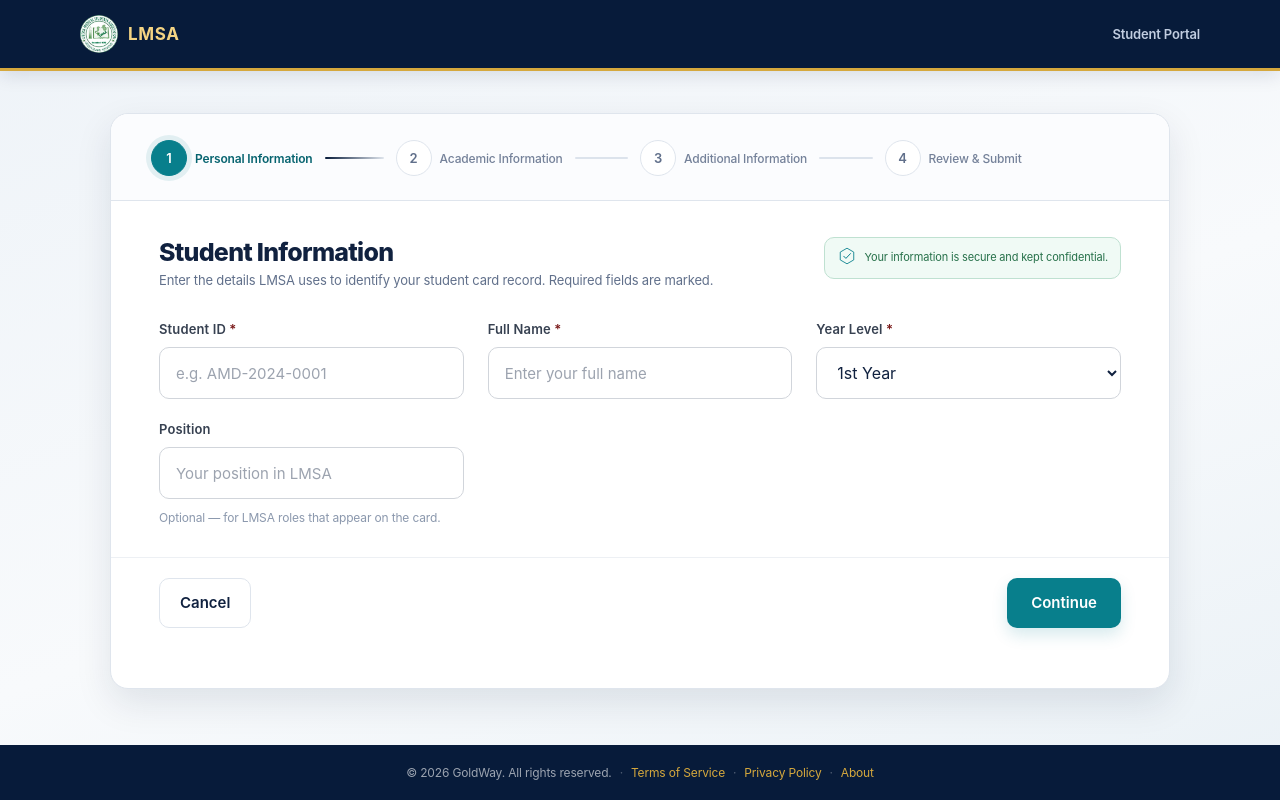
Test: StudentSubmissionForm › allows optional enabled fields to stay blank but validates filled email values
Type "AMD-2024-0001" into the field labelled "Student ID *" at coordinates (311, 373), box x1=159 y1=346 x2=464 y2=399
Type "Josephine K. Freeman" into the field labelled "Full Name *" at coordinates (640, 373), box x1=488 y1=346 x2=792 y2=399
Click the button "Continue" at coordinates (1064, 603), box x1=1007 y1=578 x2=1121 y2=628
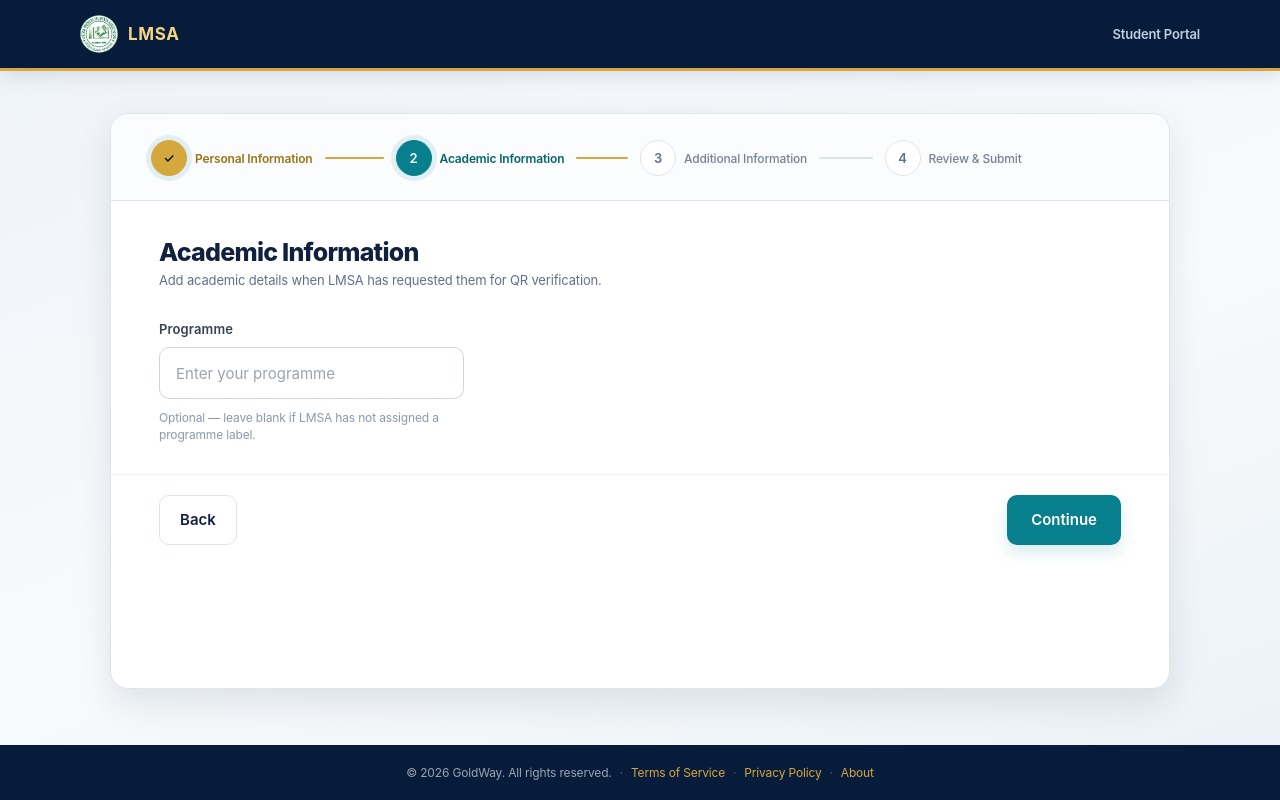
Now the heading "Academic Information" is shown, box x1=159 y1=237 x2=419 y2=267
Click the button "Continue" at coordinates (1064, 520), box x1=1007 y1=495 x2=1121 y2=545
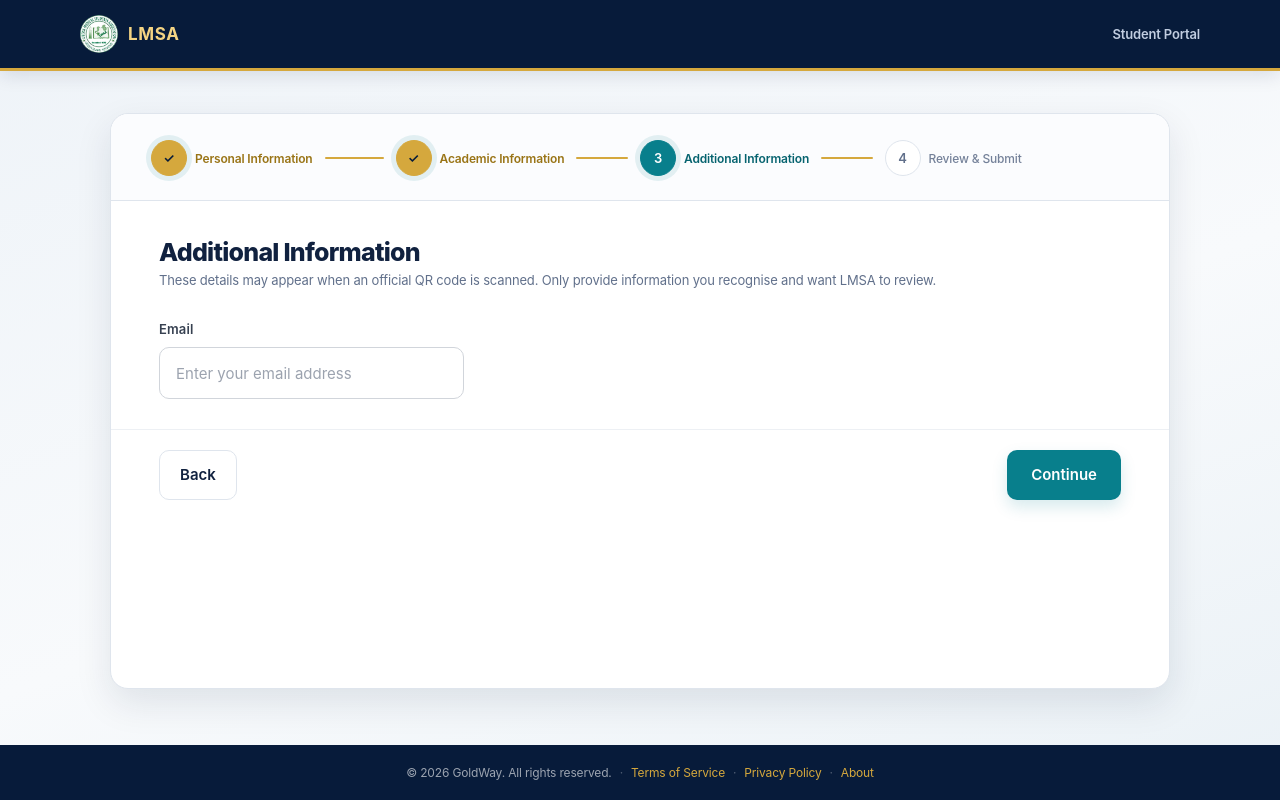
Now the heading "Additional Information" is shown, box x1=159 y1=237 x2=420 y2=267
Type "not-an-email" into the field labelled "Email" at coordinates (311, 373), box x1=159 y1=346 x2=464 y2=399
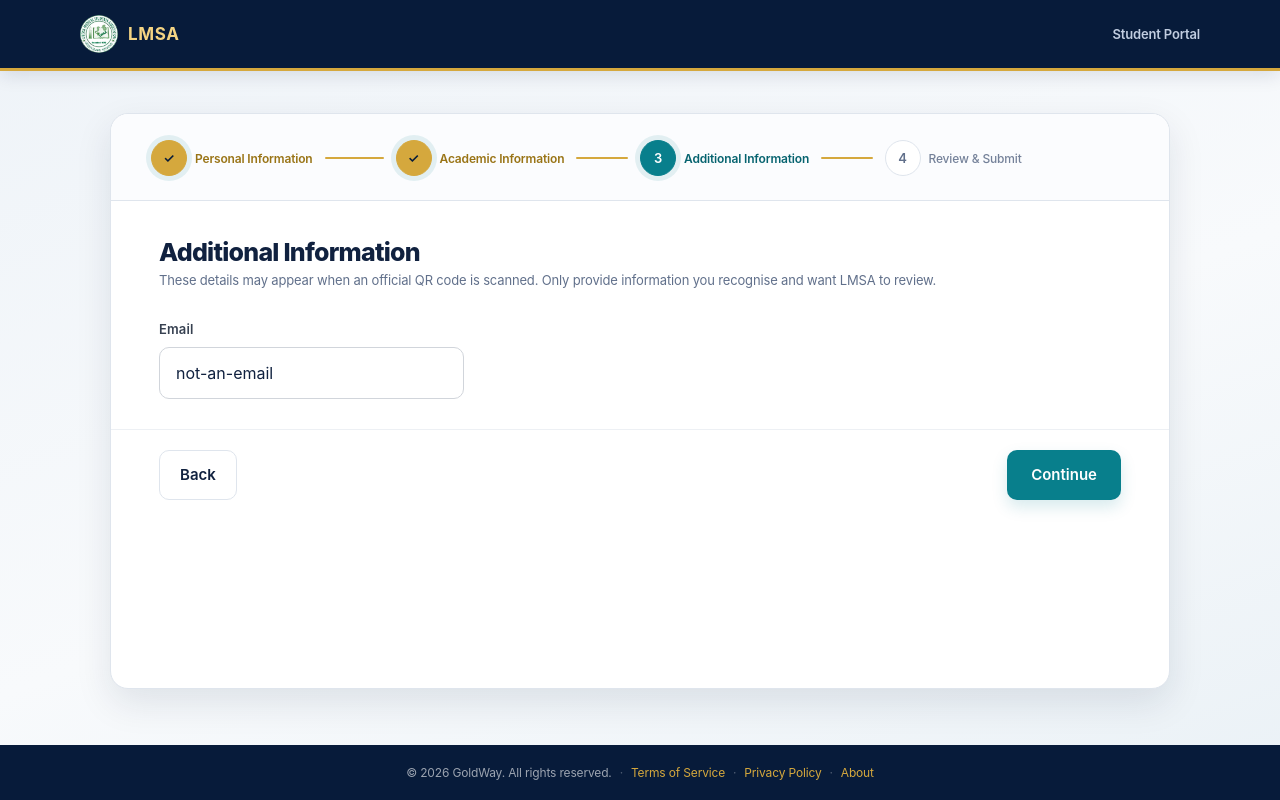
Click the button "Continue" at coordinates (1064, 475), box x1=1007 y1=450 x2=1121 y2=500
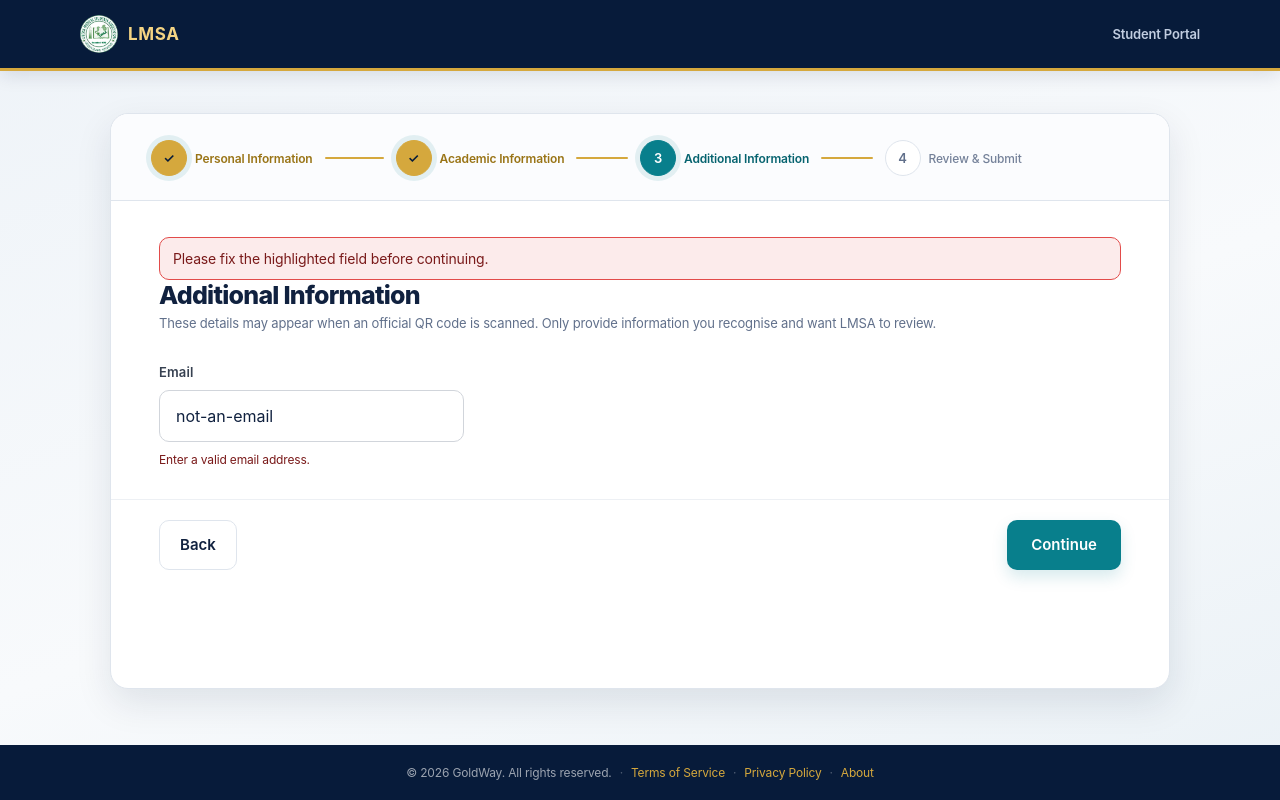
Now the message shows "Please fix the highlighted field", box x1=173 y1=250 x2=488 y2=267
Now the text "Enter a valid email address." is shown, box x1=159 y1=452 x2=310 y2=467
Replace the text in the field labelled "Email" with "student@example.com" at coordinates (311, 416), box x1=159 y1=390 x2=464 y2=442
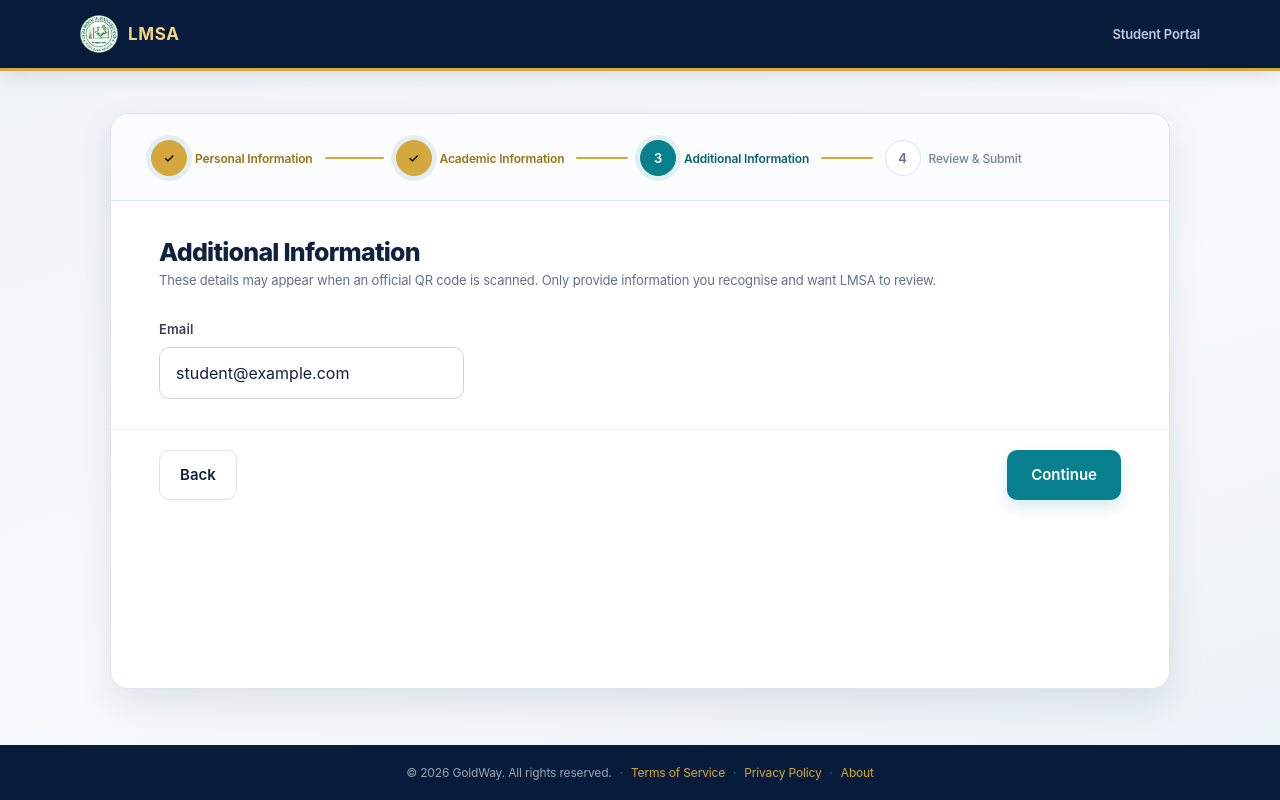
Click the button "Continue" at coordinates (1064, 475), box x1=1007 y1=450 x2=1121 y2=500
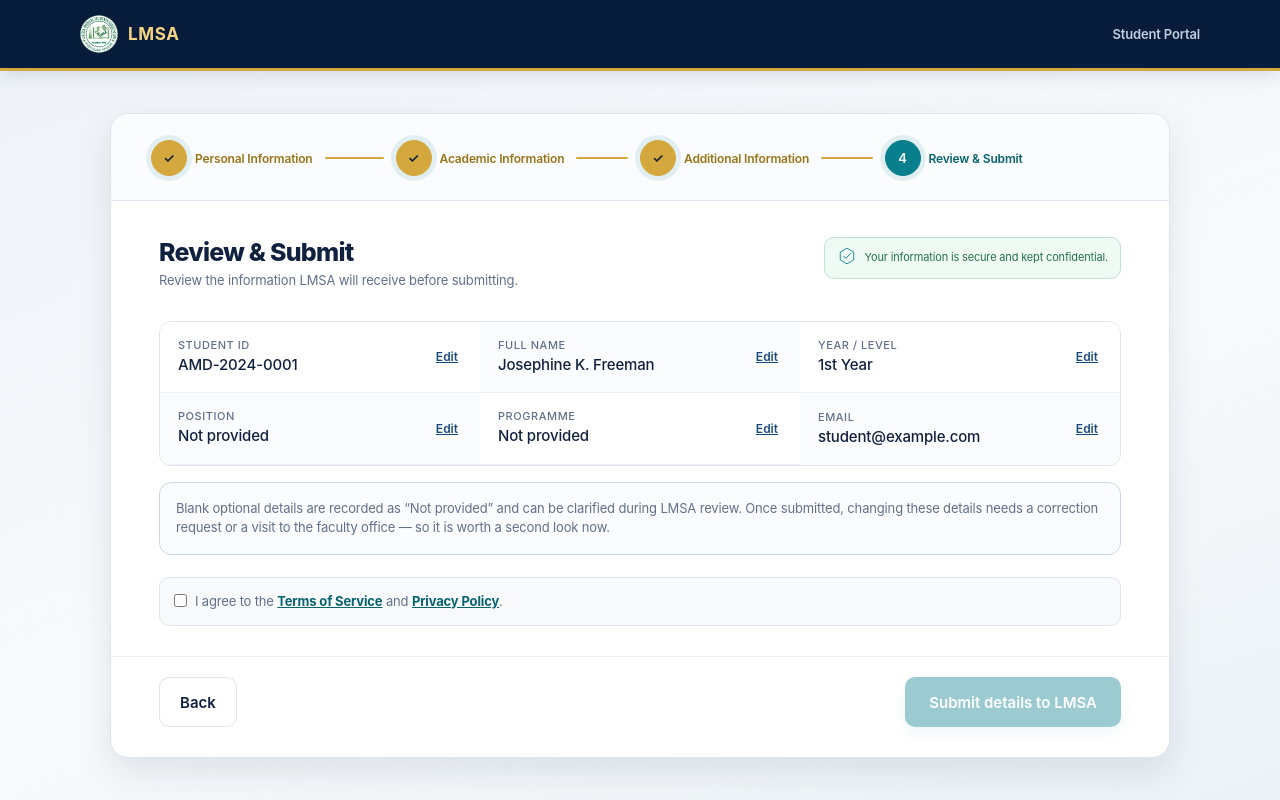
Now the heading "Review & Submit" is shown, box x1=159 y1=237 x2=354 y2=267
Now the text "student@example.com" is shown, box x1=818 y1=426 x2=980 y2=446
